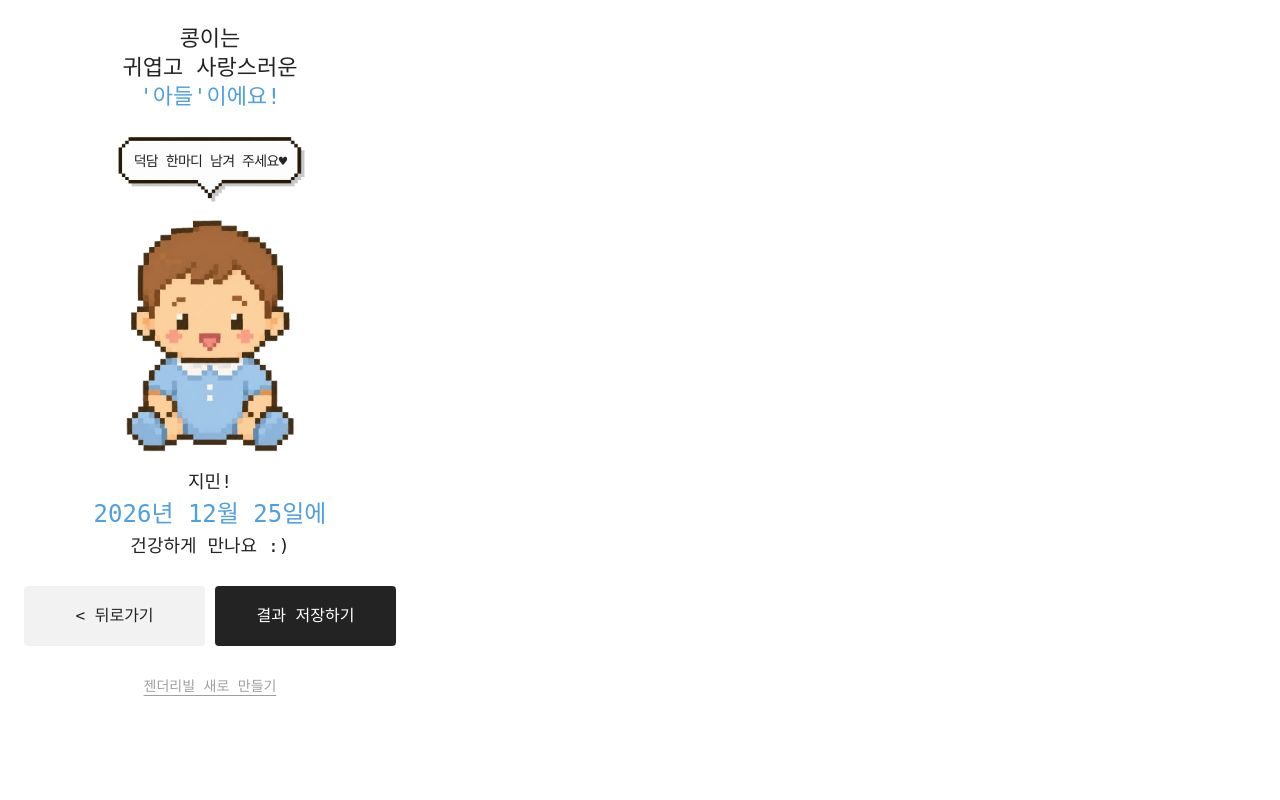
Test: ResultReveal › 댓글이 0건이면 하트 아이콘 클릭 시 안내 뷰로 CommentModal이 열린다
Click the button with aria-label "덕담 남기기".
click(210, 172)  # box [112,135,308,208]
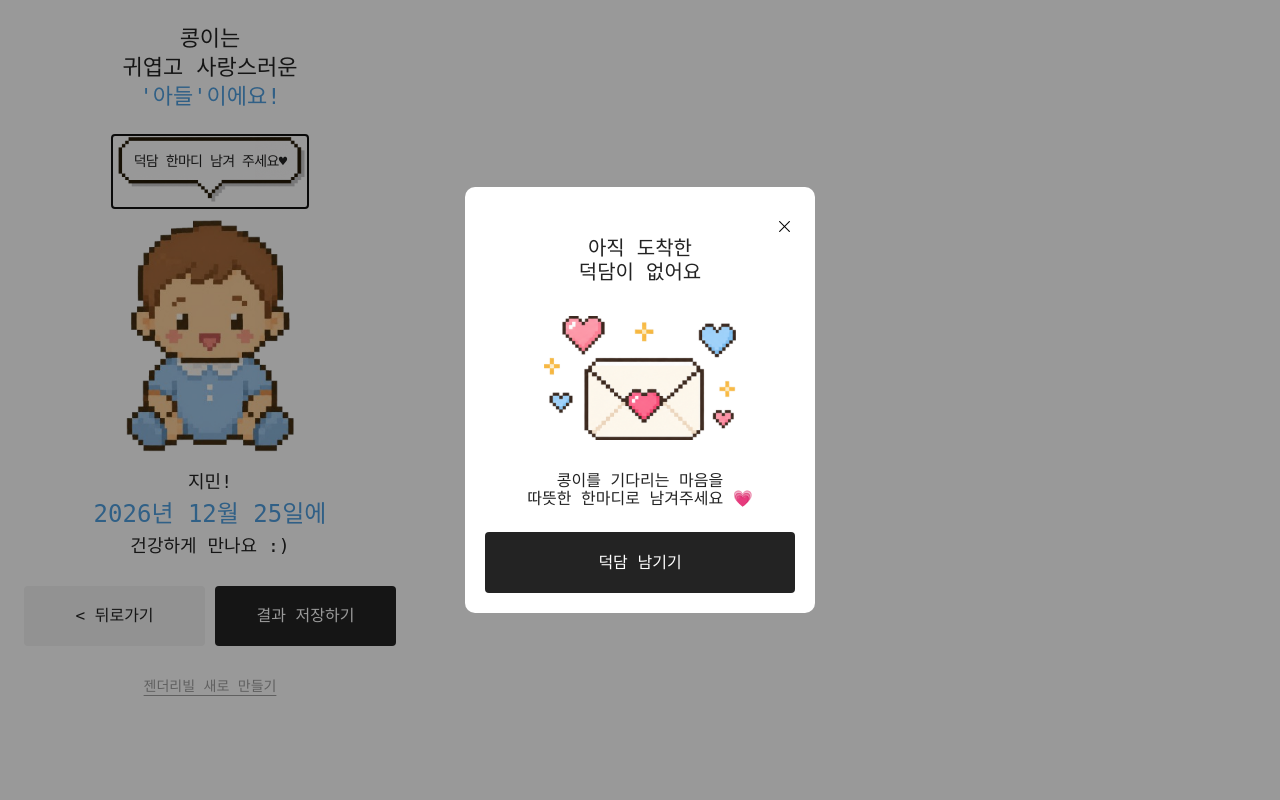
Expected: the dialog named "덕담 안내" is shown, [465,187,815,613]
